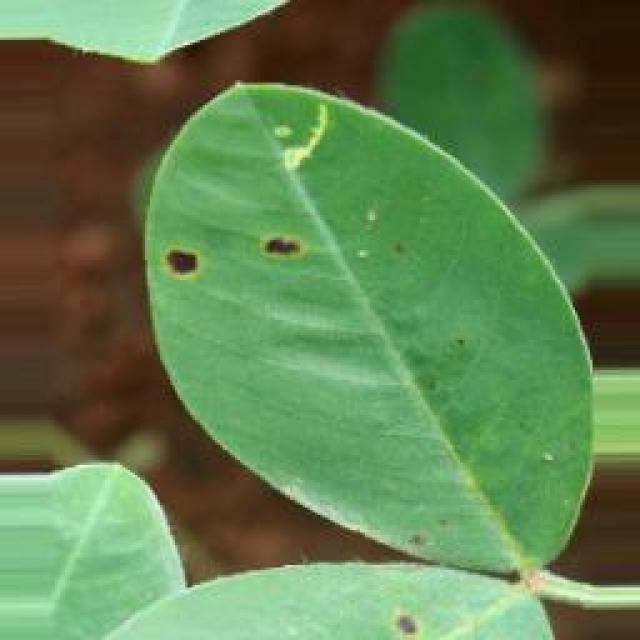Sigatoka: (144, 228, 222, 295), (238, 218, 307, 282), (369, 590, 454, 640)
